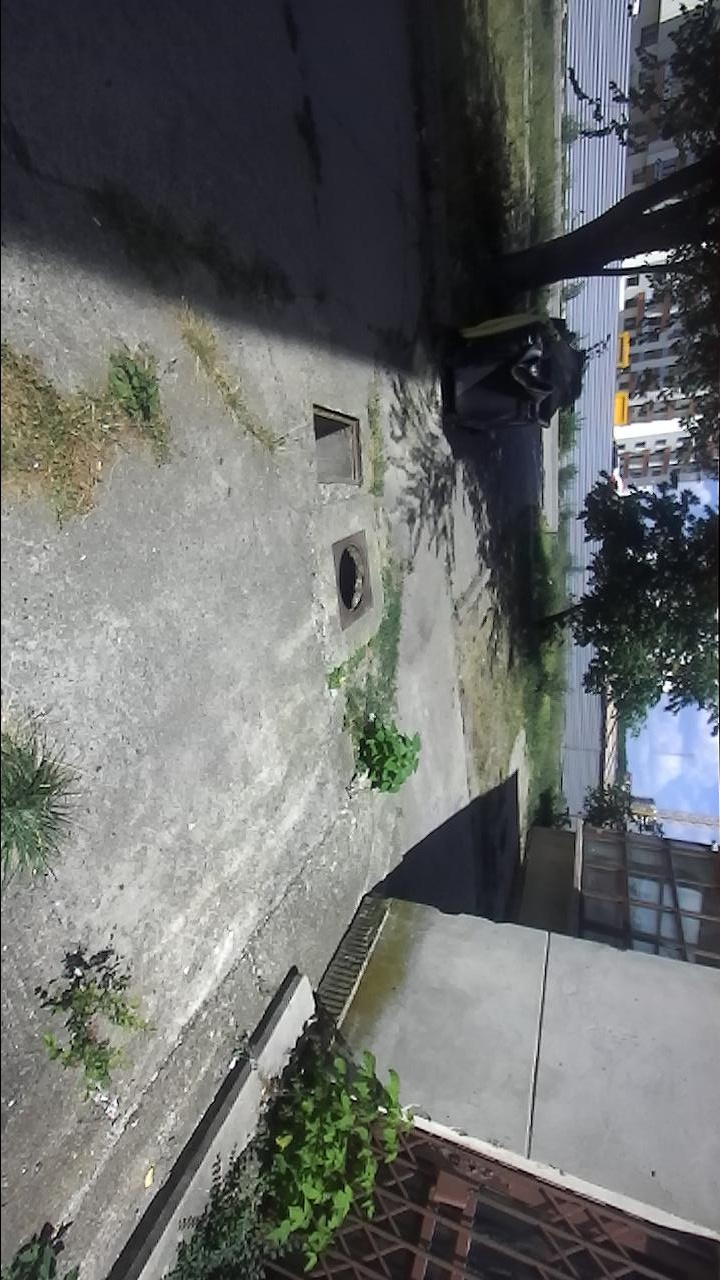drain: (311, 399, 367, 488), (333, 538, 370, 613)
